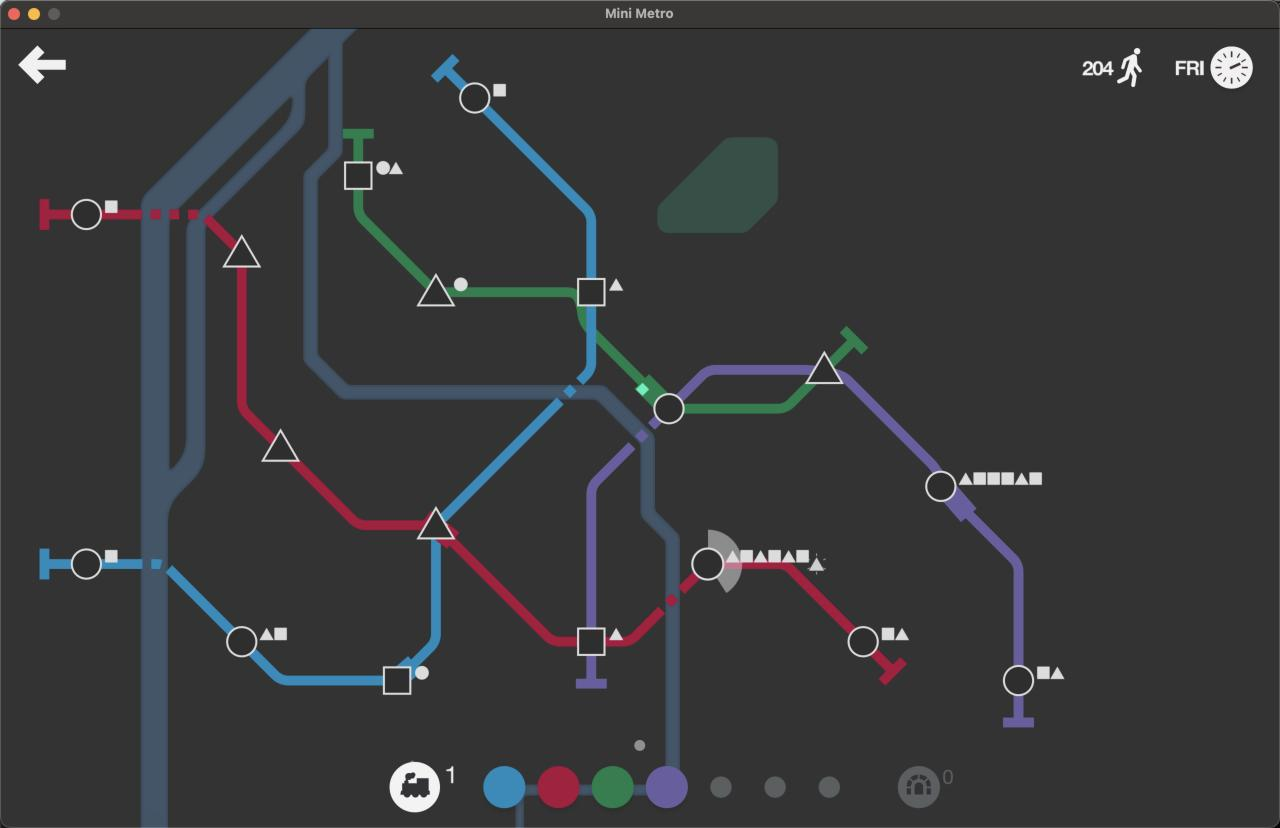CIRCLE: (691, 546, 724, 581), (225, 625, 258, 658), (924, 470, 957, 503), (653, 392, 685, 426), (847, 625, 879, 658), (1003, 664, 1035, 697), (71, 198, 103, 231), (459, 81, 491, 114), (71, 547, 102, 580)
SQUARE: (576, 276, 607, 308), (382, 664, 413, 696), (576, 626, 607, 657), (344, 161, 373, 191)
TRIANGLE: (415, 505, 457, 541), (221, 234, 262, 270), (416, 273, 457, 308), (260, 428, 300, 462), (806, 350, 843, 386), (609, 277, 623, 291)
